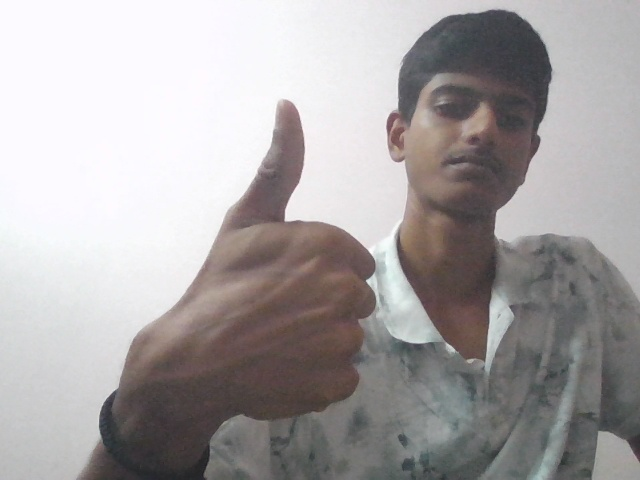thanks: (127, 70, 377, 422)
